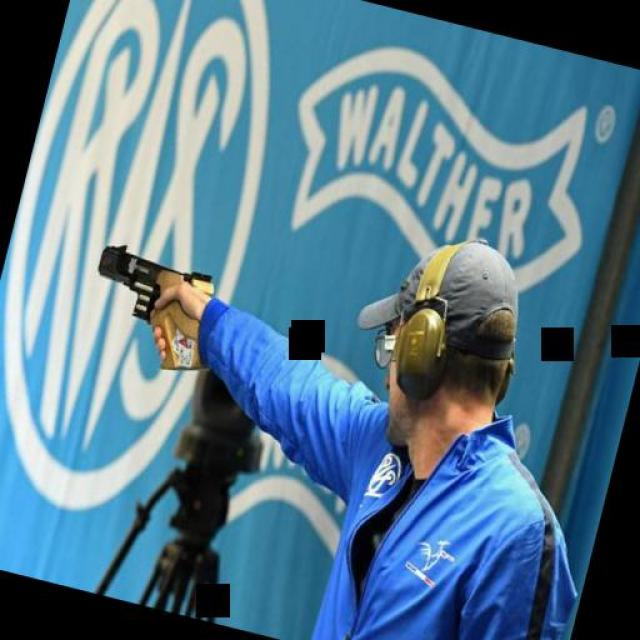gun: (71, 230, 242, 385)
